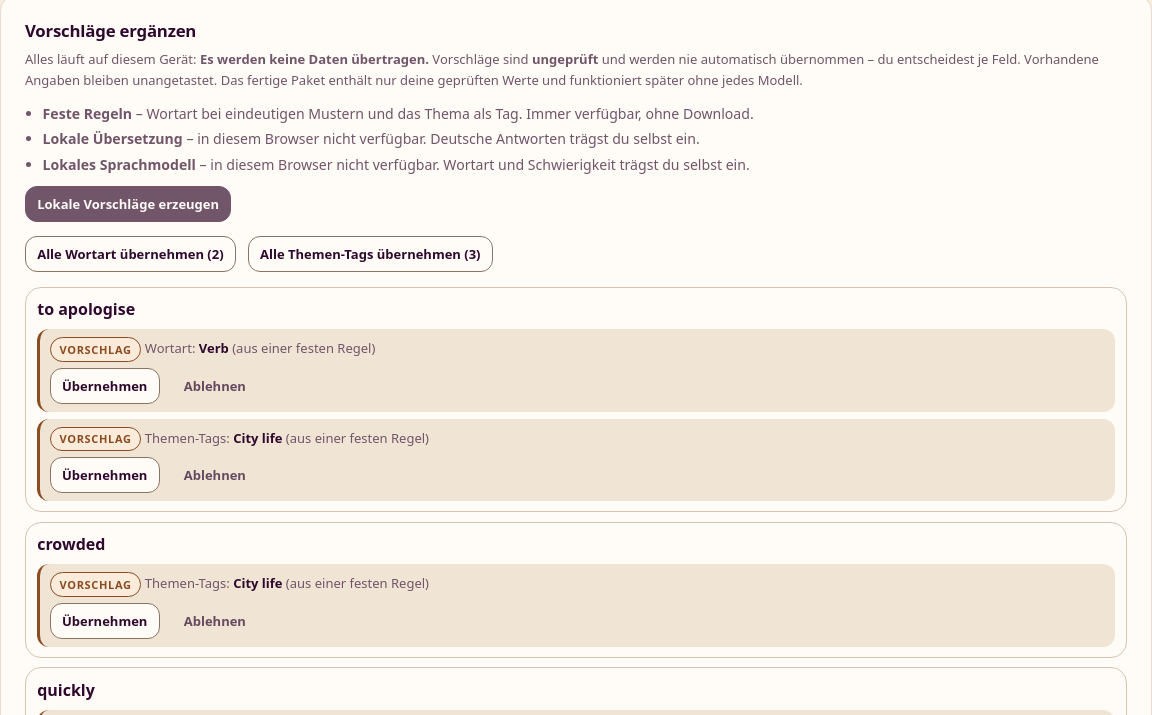
Test: Einzelne Vorschläge › übernimmt genau einen Wert
Expected: the text "Verb" is shown, [199,340,229,358]
Click the button with aria-label "Wortart für to apologise übernehmen": [105, 386] box [50,368,160,404]
(page scrolled)
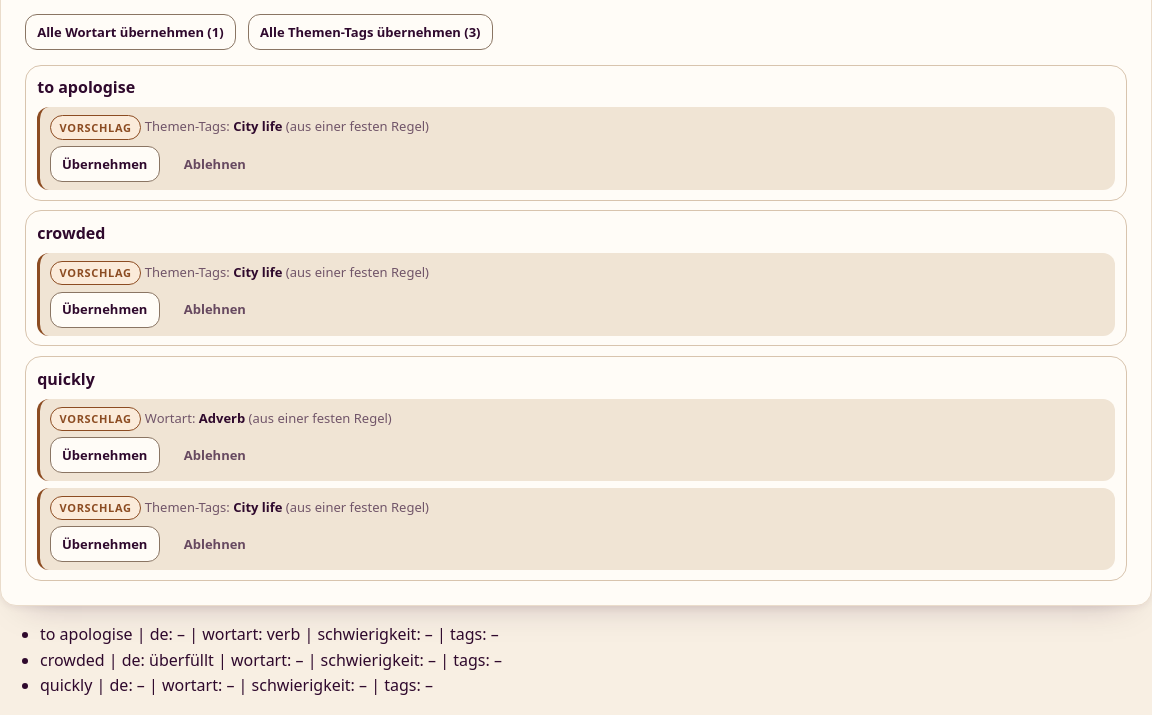
Now the 4th list item shows "wortart: verb", box [40,623,499,645]
